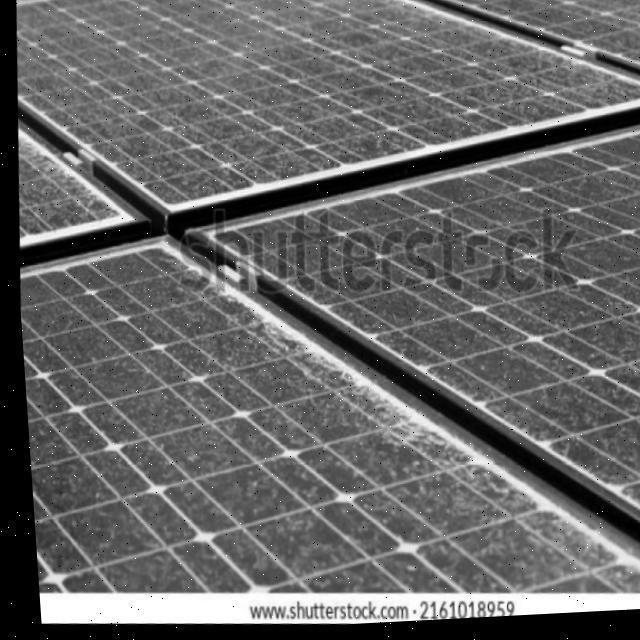Anomaly Solar Panel: (0, 0, 640, 624)
Surface Contaminant: (16, 0, 640, 597)
